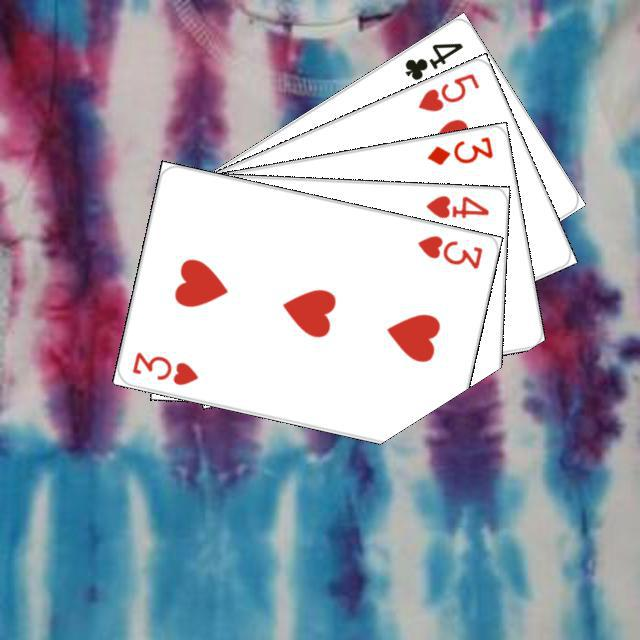3d: (422, 131, 495, 167)
3h: (412, 230, 485, 271), (127, 346, 200, 387)
4c: (399, 37, 465, 83)
4h: (421, 190, 491, 220)
5h: (413, 68, 481, 114)
